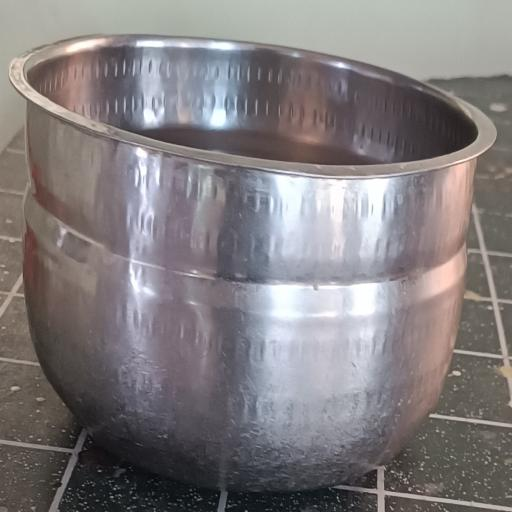vessel: (10, 36, 495, 490)
